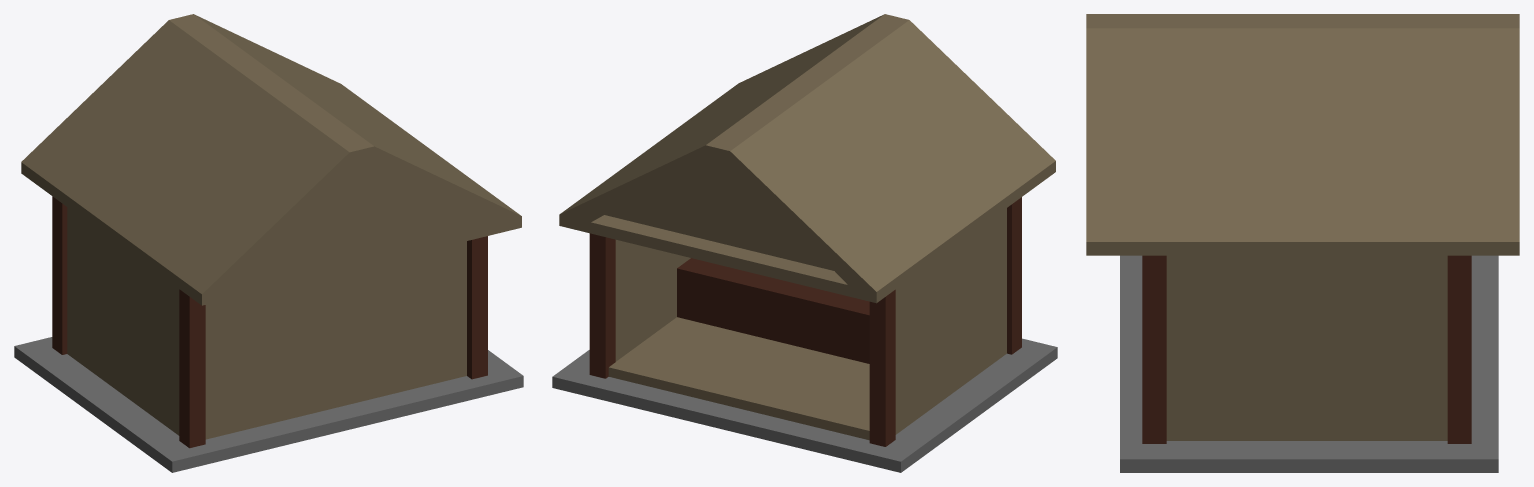
The model's file is Wooden_Shop.fbx.
3 views of the same model, side by side, from view 1: azimuth 30°, elevation 25°; view 2: azimuth 150°, elevation 25°; view 3: azimuth 270°, elevation 25° (orthographic). The views are drawn at different scales.
Parts seen in each view (by area): view 1: Roof, House, Base, Outside_Pillar3, Outside_Pillar1, Outside_Pillar2; view 2: Roof, House, Base, pCube1, Outside_Pillar2, Outside_Pillar, Outside_Pillar3; view 3: Roof, House, Base, Outside_Pillar1, Outside_Pillar.
Part boxes in pixels (x1,y1,x2,y2): Roof: (21,14,521,305); House: (67,207,466,439); Base: (14,337,523,472); Outside_Pillar3: (179,289,205,448); Outside_Pillar1: (467,236,487,379); Outside_Pillar2: (52,196,67,354); Roof: (559,14,1055,303); House: (608,208,1006,440); Base: (552,338,1057,472); pCube1: (677,258,869,363); Outside_Pillar2: (869,289,895,446); Outside_Pillar: (589,233,615,378); Outside_Pillar3: (1007,197,1021,354); Roof: (1086,14,1519,255); House: (1166,255,1447,440); Base: (1120,255,1498,472); Outside_Pillar1: (1142,255,1166,443); Outside_Pillar: (1447,255,1471,443).
Bounding box in the file's own units: 8.97 × 7.1 × 7.99.
